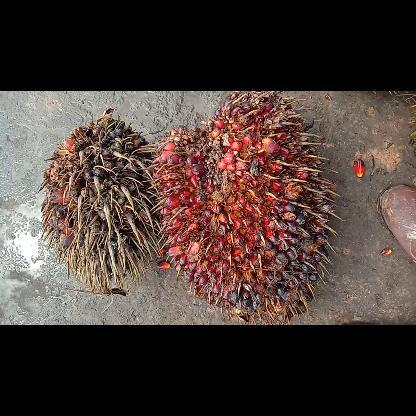TBS abnormal: (42, 107, 160, 295)
TBS masak: (148, 90, 342, 324)
